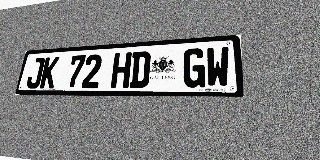2: (81, 54, 103, 88)
7: (65, 55, 86, 88)
D: (129, 51, 151, 88)
G: (183, 48, 205, 88)
H: (110, 52, 132, 88)
J: (25, 57, 45, 88)
K: (39, 57, 60, 88)
W: (206, 46, 230, 88)
